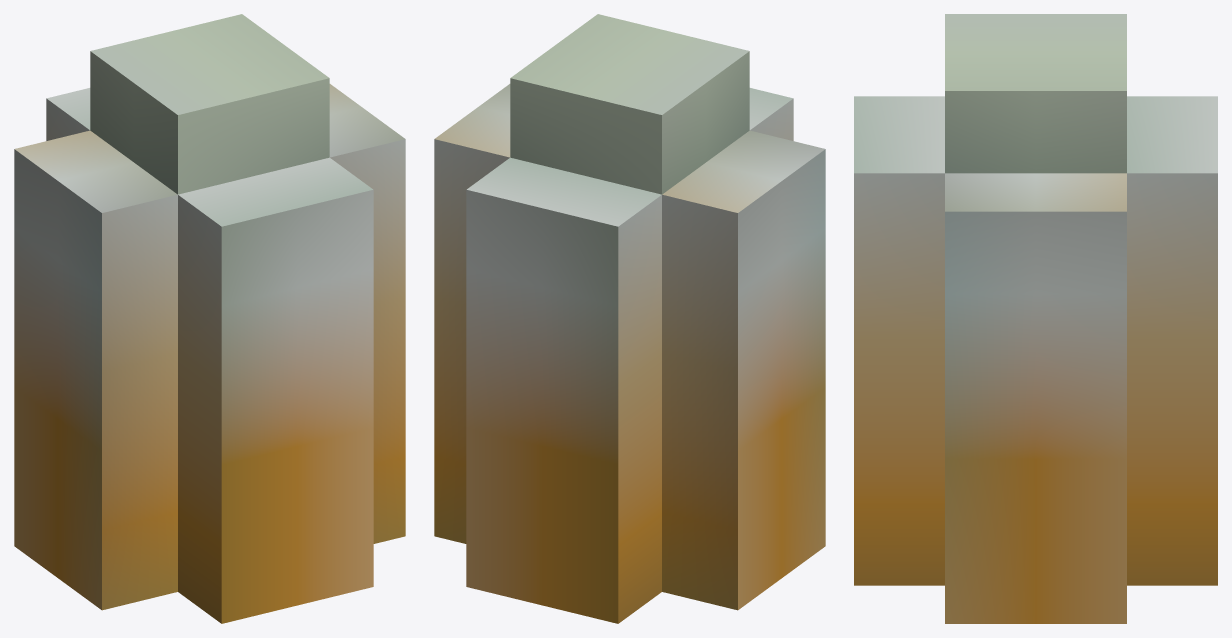
Rendered from JarYellow_00.obj.
The picture shows the model from 3 angles, left to right: view 1: azimuth 30°, elevation 25°; view 2: azimuth 150°, elevation 25°; view 3: azimuth 270°, elevation 25°; orthographic projection. The views are drawn at different scales.
Visible parts, largest first — view 1: JarYellow_00; view 2: JarYellow_00; view 3: JarYellow_00.
Boxes of the visible parts, x1=… form: JarYellow_00: x1=14, y1=14, x2=405, y2=623; JarYellow_00: x1=434, y1=14, x2=825, y2=623; JarYellow_00: x1=854, y1=14, x2=1217, y2=623.
Size of the model in its own units: 0.2 by 0.3 by 0.2.
